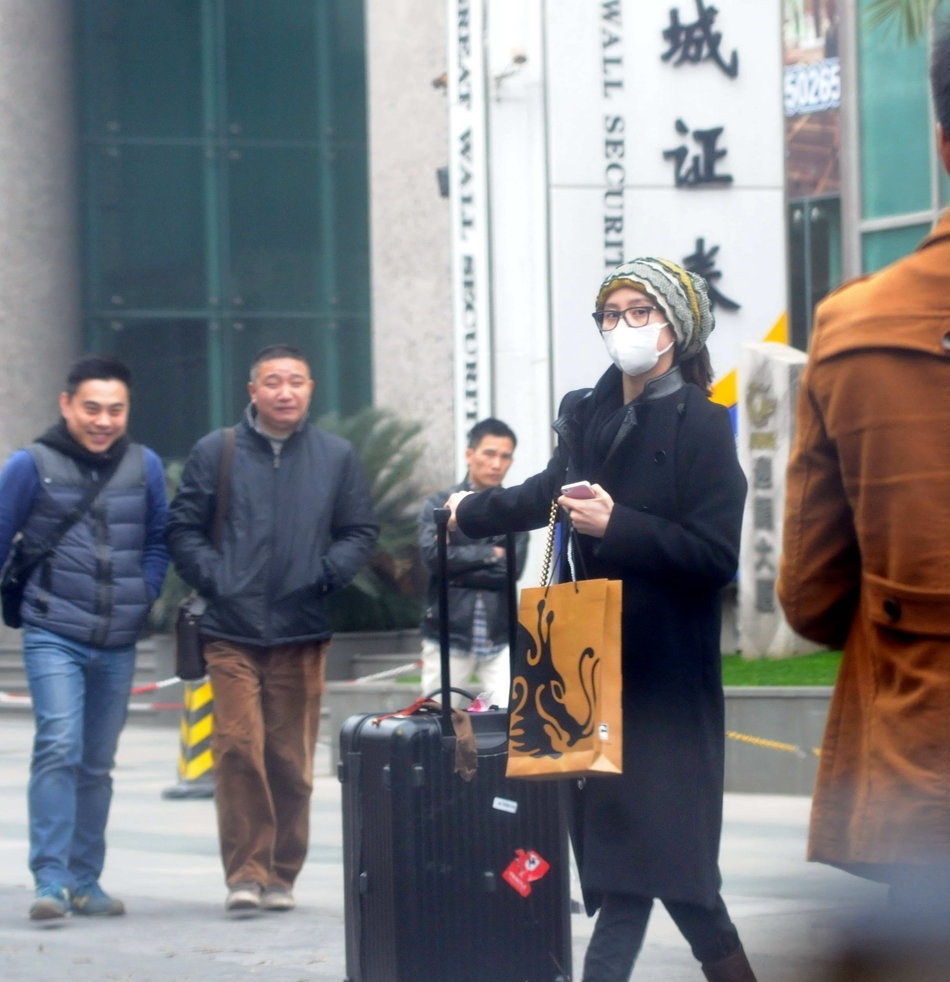face: (70, 380, 127, 451), (254, 360, 308, 423), (472, 435, 513, 484)
face_mask: (600, 284, 668, 370)
